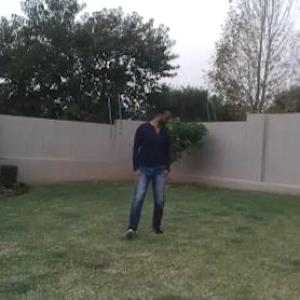follow: (132, 96, 172, 231)
